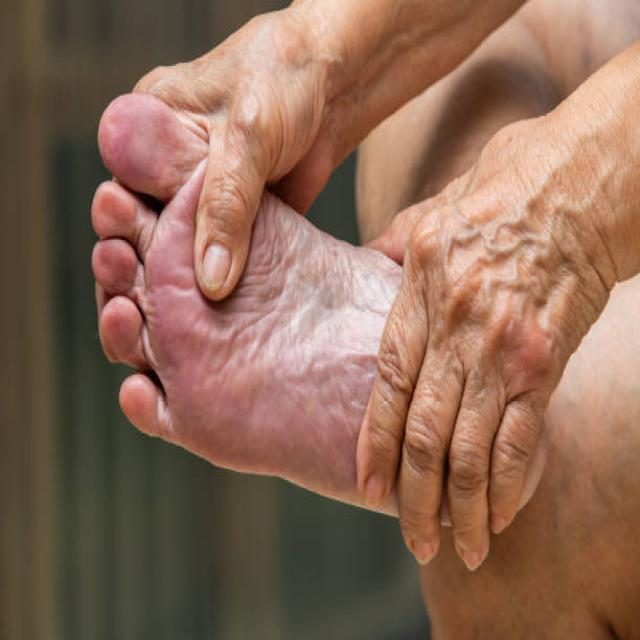dry: (168, 193, 354, 405), (440, 185, 588, 359)
